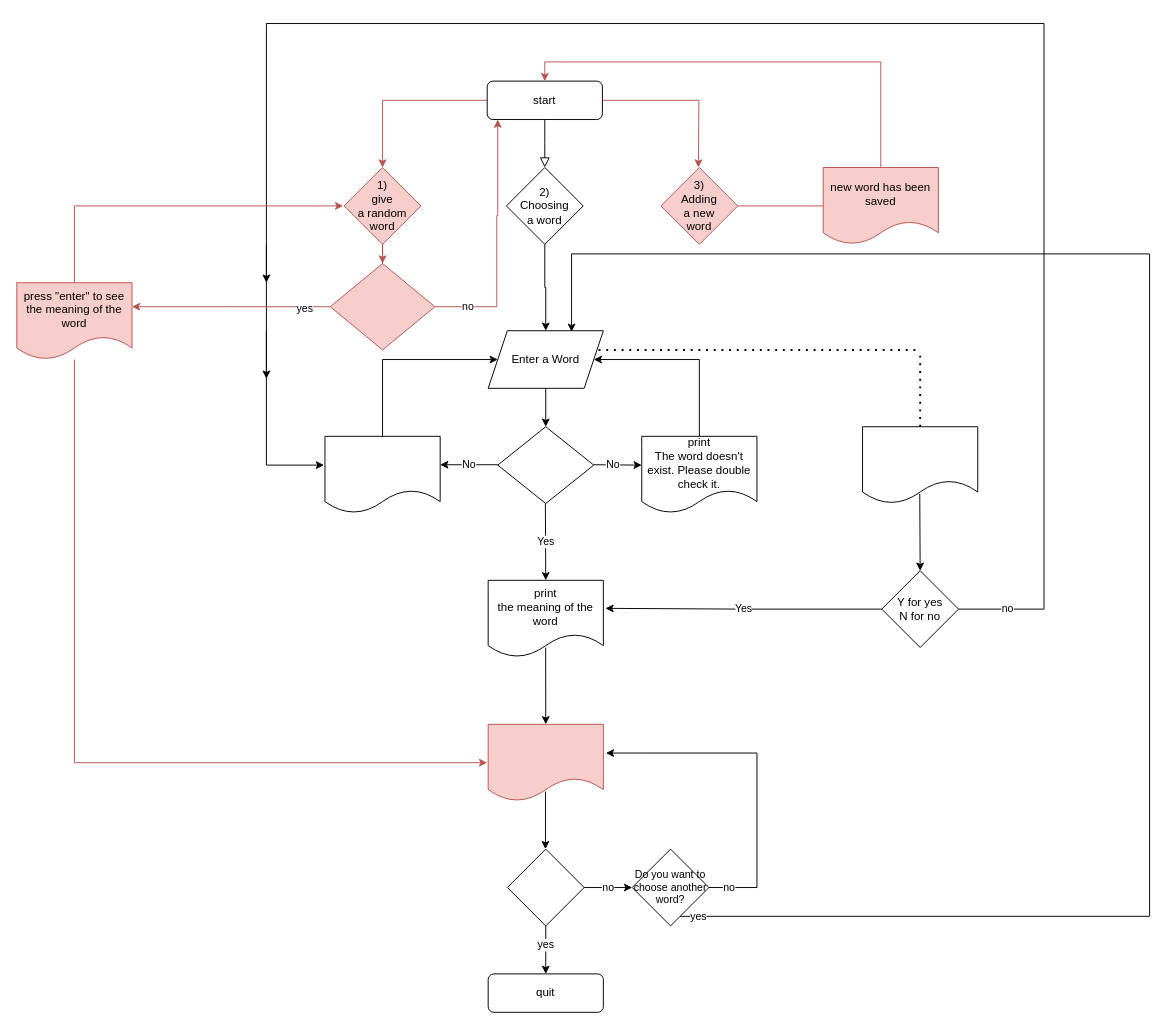
This 1174x1029 diagram has some shape labels left out. The box of each missing label's shape, as (x1, y1, x2, y2) in pixels:
Did you mean % s instead?: (862, 426, 978, 504)
Do you want to quit?: (506, 848, 584, 926)
do you want to see the meaning of the word: (329, 263, 435, 350)
if is the word available?: (497, 426, 594, 504)
Press "Q" or "shift+Q" to exit, "Enter" to choose another word: (487, 723, 603, 801)
The word doesn't exist. Please double-check it.: (324, 435, 440, 513)
